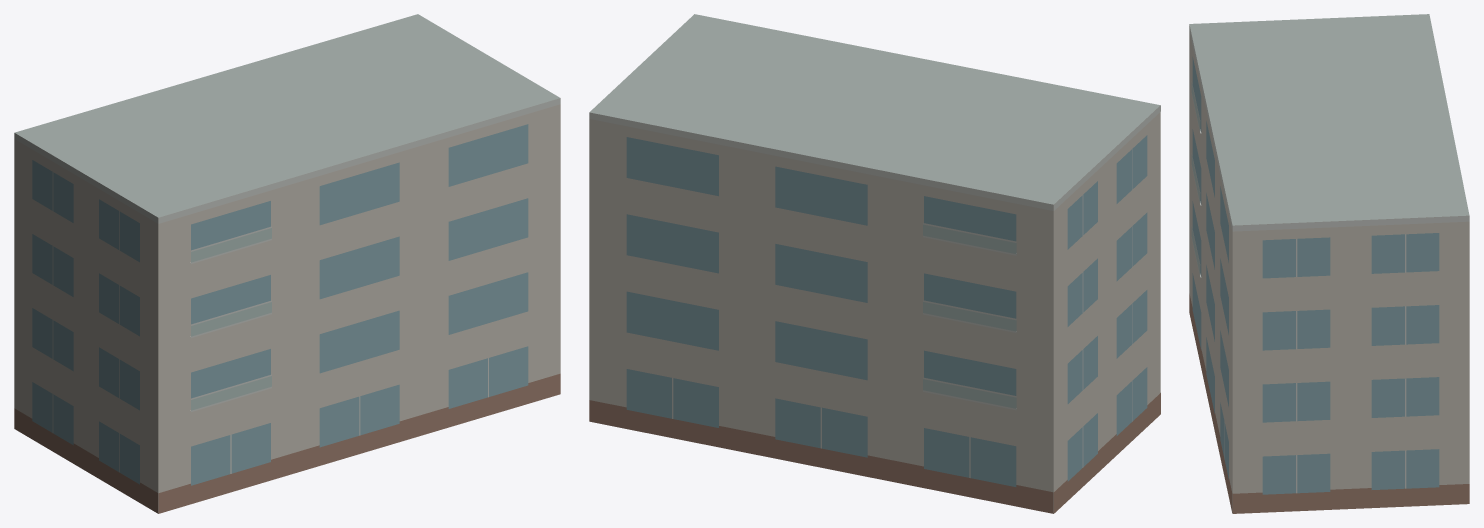
The model's file is survey-upis-33043863.glb.
3 renders of one model, left to right at view 1: azimuth 30°, elevation 25°; view 2: azimuth 150°, elevation 25°; view 3: azimuth 270°, elevation 25°, orthographic. The views are drawn at different scales.
Parts seen in each view (by area): view 1: survey-upis-33043863.tmp; view 2: survey-upis-33043863.tmp; view 3: survey-upis-33043863.tmp.
Boxes of the visible parts, left/top/right/bottom form: survey-upis-33043863.tmp: left=14, top=14, right=560, bottom=513; survey-upis-33043863.tmp: left=589, top=14, right=1160, bottom=513; survey-upis-33043863.tmp: left=1189, top=14, right=1469, bottom=513.
Bounding box in the file's own units: 18.42 × 11.7 × 10.31.
